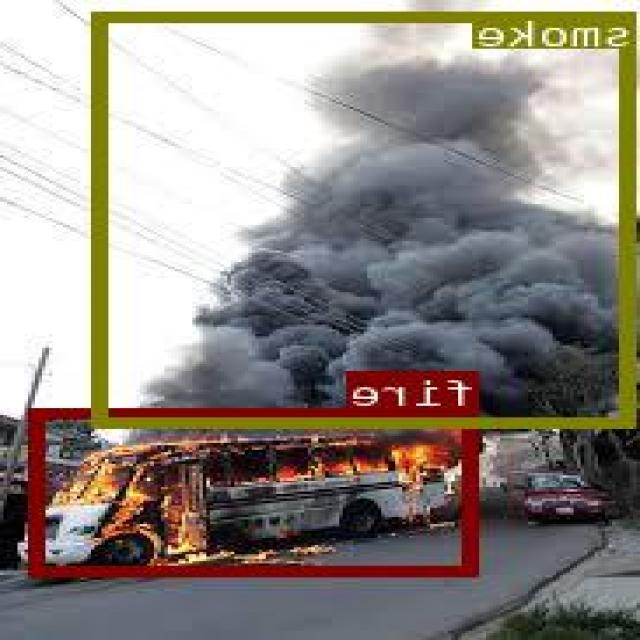fire: (35, 407, 480, 574)
smoke: (95, 11, 639, 426)
